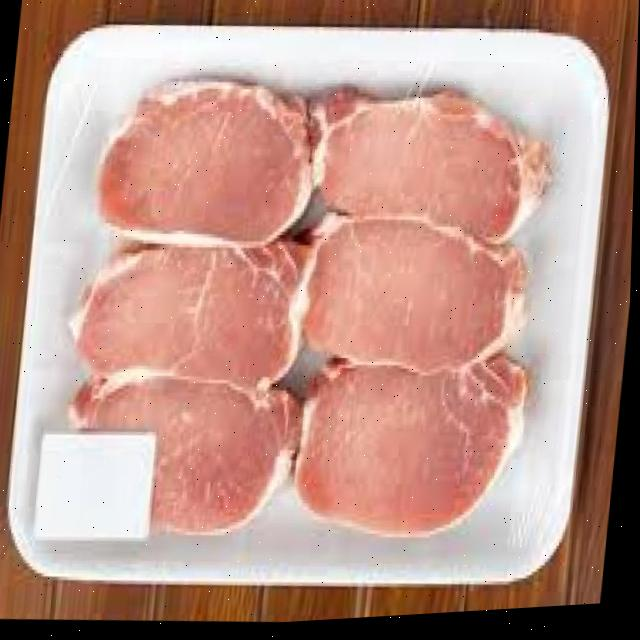Wet: (3, 18, 586, 621), (15, 229, 521, 614), (40, 51, 565, 411)
